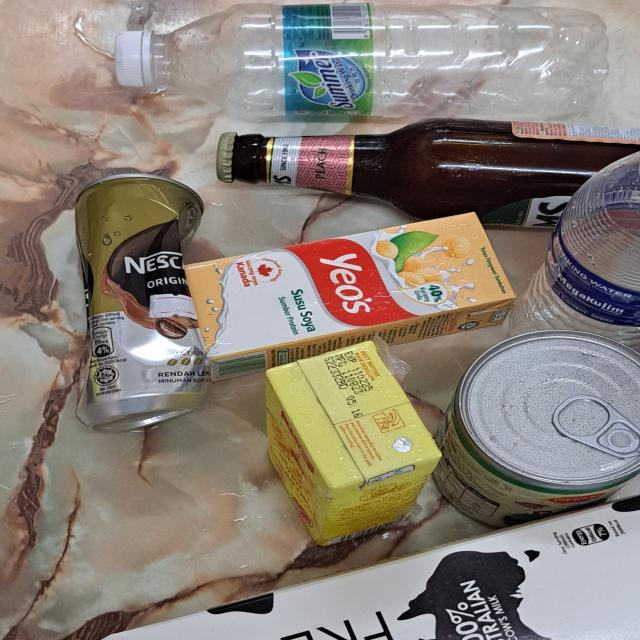can: (434, 328, 640, 536), (72, 172, 204, 434)
drink carton: (107, 491, 639, 640), (172, 212, 517, 381), (259, 341, 440, 548)
glass bottle: (216, 117, 640, 230)
plastic bottle: (159, 0, 609, 124), (511, 152, 640, 352)
plastic bottle cap: (115, 31, 154, 88)
pop tab: (551, 394, 640, 461)
